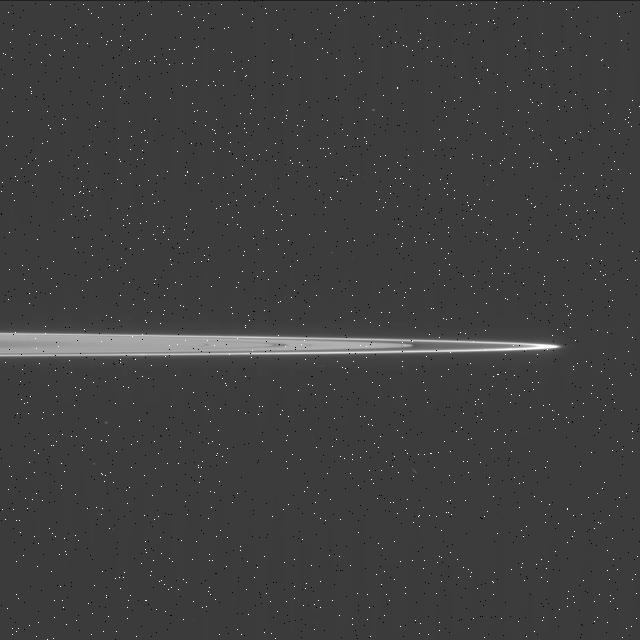Saturn: (0, 329, 565, 357)
